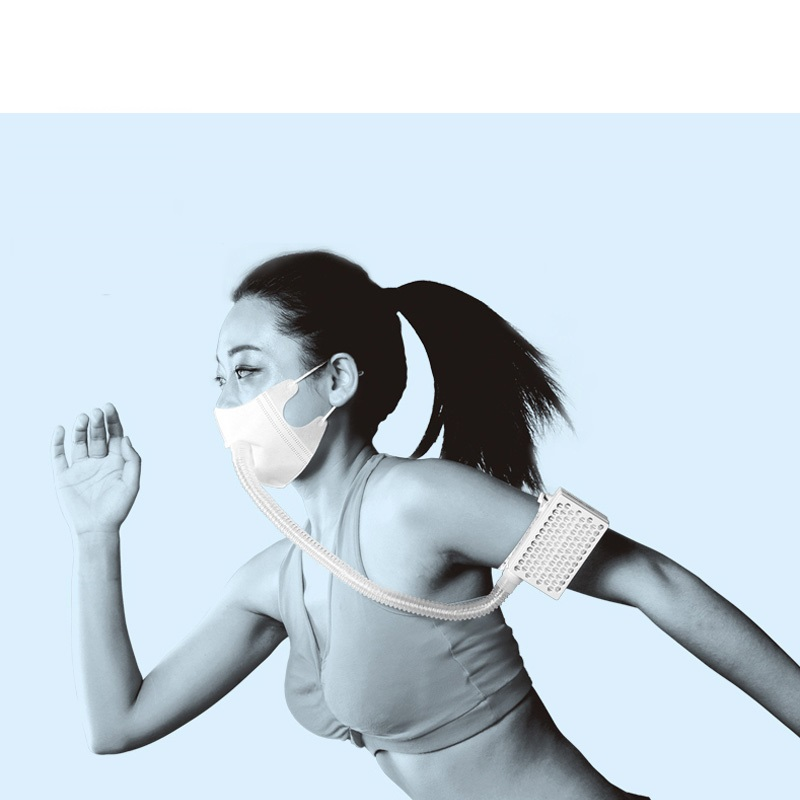face_mask: (213, 306, 320, 478)
